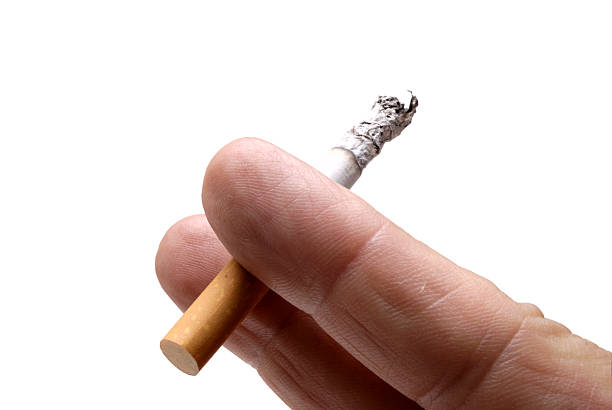cigarette: (158, 87, 419, 377)
